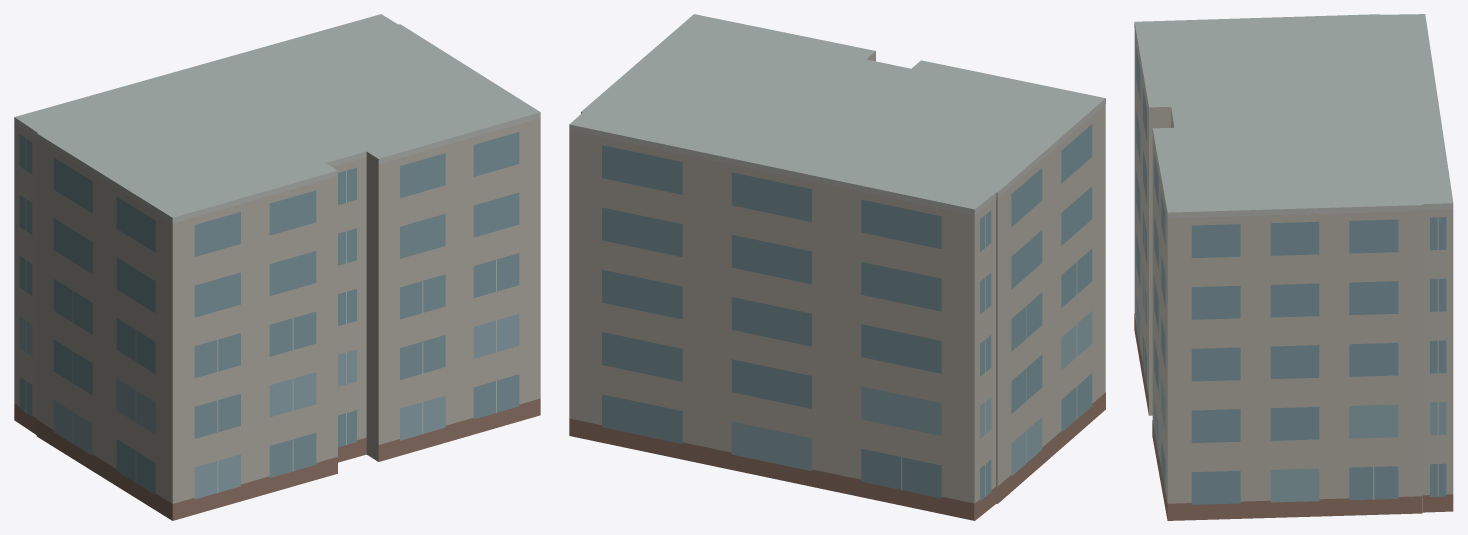
File: survey-upis-32671950.glb
3 renders of one model, left to right at view 1: azimuth 30°, elevation 25°; view 2: azimuth 150°, elevation 25°; view 3: azimuth 270°, elevation 25°, orthographic. The views are drawn at different scales.
Visible parts, largest first — view 1: survey-upis-32671950.tmp; view 2: survey-upis-32671950.tmp; view 3: survey-upis-32671950.tmp.
Boxes of the visible parts, left/top/right/bottom form: survey-upis-32671950.tmp: left=14, top=14, right=540, bottom=520; survey-upis-32671950.tmp: left=569, top=14, right=1105, bottom=520; survey-upis-32671950.tmp: left=1134, top=14, right=1453, bottom=520.
Bounding box in the file's own units: 17.96 × 13 × 12.2.
